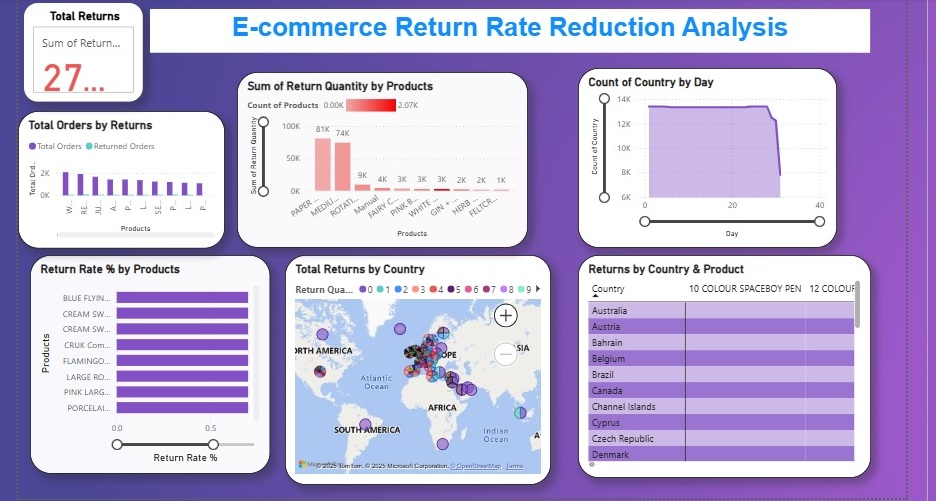

The dashboard page shown, as its layout file describes it:
{"tool":"powerbi","page":{"name":"Page 1","canvas":[1280,720],"ordinal":0},"visuals":[{"type":"barChart","fields":{"Y":["E Commerce Data.Return Rate %"],"Category":["E Commerce Data.Products"]},"box":[17.3,370.1,345.6,315.4],"z":0},{"type":"map","title":"Total Returns by Country","fields":{"Category":["E Commerce Data.Country"],"Series":["E Commerce Data.Return Quantity"]},"box":[384.3,370,382.9,331.4],"z":1000},{"type":"clusteredColumnChart","title":"Total Orders by Returns","fields":{"Category":["E Commerce Data.Products"],"Y":["E Commerce Data.Total Orders","E Commerce Data.Returned Orders"]},"box":[0,162.5,298.4,197.7],"z":2000},{"type":"lineChart","fields":{"Category":["E Commerce Data.InvoiceDate.Variation.Date Hierarchy.Year","E Commerce Data.InvoiceDate.Variation.Date Hierarchy.Quarter","E Commerce Data.InvoiceDate.Variation.Date Hierarchy.Month","E Commerce Data.InvoiceDate.Variation.Date Hierarchy.Day"],"Y":["CountNonNull(E Commerce Data.Country)"]},"box":[805.7,101.4,372.9,258.6],"z":3000},{"type":"clusteredColumnChart","fields":{"Category":["E Commerce Data.Products"],"Y":["Sum(E Commerce Data.Return Quantity)"]},"box":[315.7,107.1,418.6,252.9],"z":4000},{"type":"pivotTable","title":"Returns by Country & Product","fields":{"Rows":["E Commerce Data.Country"],"Columns":["E Commerce Data.Products","E Commerce Data.Return Quantity"]},"box":[806.4,370.1,421.9,321.1],"z":5000},{"type":"cardVisual","title":"Total Returns","fields":{"Data":["Sum(E Commerce Data.Return Quantity)"]},"box":[8.6,7,171.1,142.2],"z":6000},{"type":"textbox","box":[190,15.7,1037.1,62.9],"z":6001}]}

Visuals, with their boxes in screenshot pixels (x1, y1, x2, y2):
barChart - E Commerce Data.Return Rate % x E Commerce Data.Products: (31,252,269,469)
"Total Returns by Country" map: (284,252,547,480)
"Total Orders by Returns" clusteredColumnChart: (20,109,225,245)
lineChart - E Commerce Data.InvoiceDate.Variation.Date Hierarchy.Year x E Commerce Data.InvoiceDate.Variation.Date Hierarchy.Quarter: (574,67,830,245)
clusteredColumnChart - E Commerce Data.Products x Sum(E Commerce Data.Return Quantity): (237,71,525,245)
"Returns by Country & Product" pivotTable: (574,252,864,473)
"Total Returns" cardVisual: (25,2,143,100)
textbox: (150,8,863,52)
